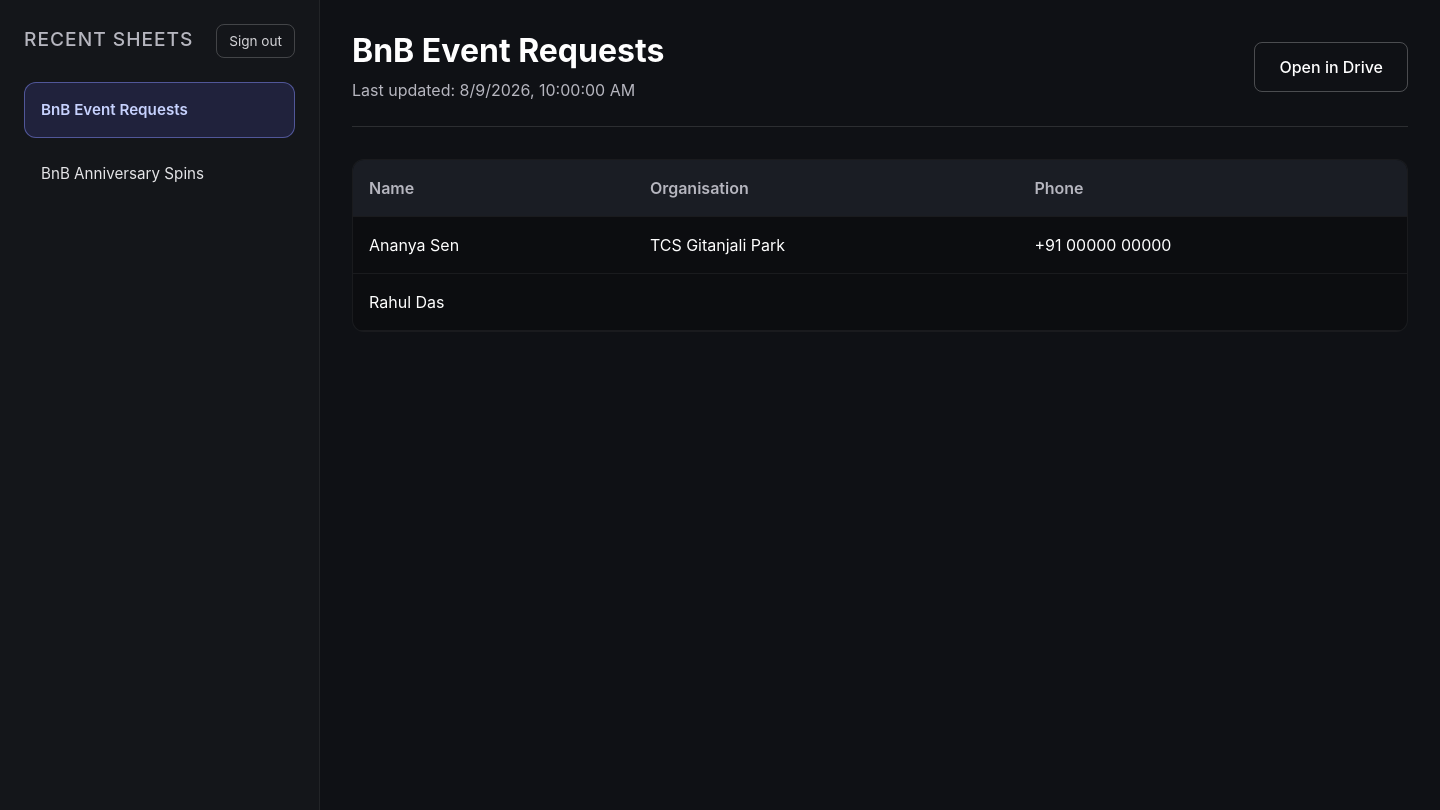
Test: the dashboard › signing out drops the token and every rendered row
Expected: the text "Ananya Sen" is shown, [353,217,634,274]
Click the button "Sign out". click: (256, 41)
box: [216,24,295,58]
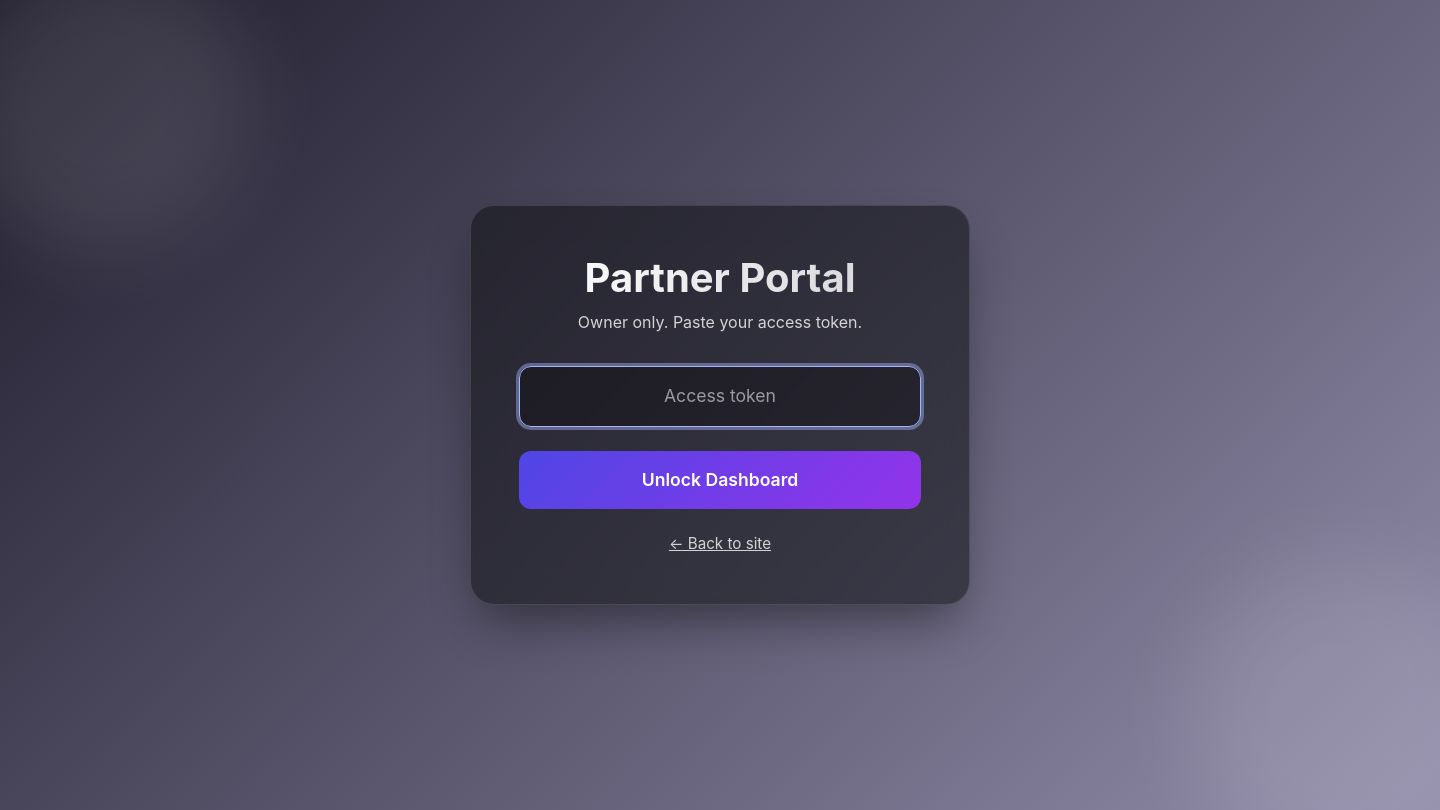
Expected: the text "Ananya Sen" is gone
Expected: the password field labelled "Access token" is shown, [519,366,921,427]
